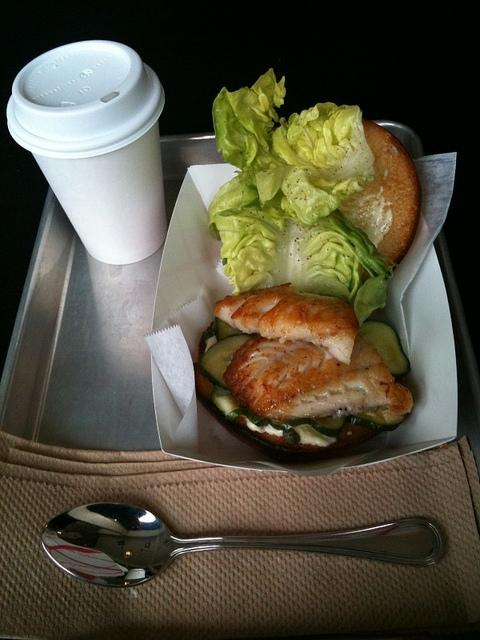cucumber: (200, 334, 254, 389), (358, 321, 411, 376), (211, 384, 270, 426), (346, 406, 402, 431), (270, 420, 300, 448), (214, 316, 246, 342)
lettuce: (254, 102, 376, 226), (212, 67, 288, 198), (206, 176, 258, 240)
